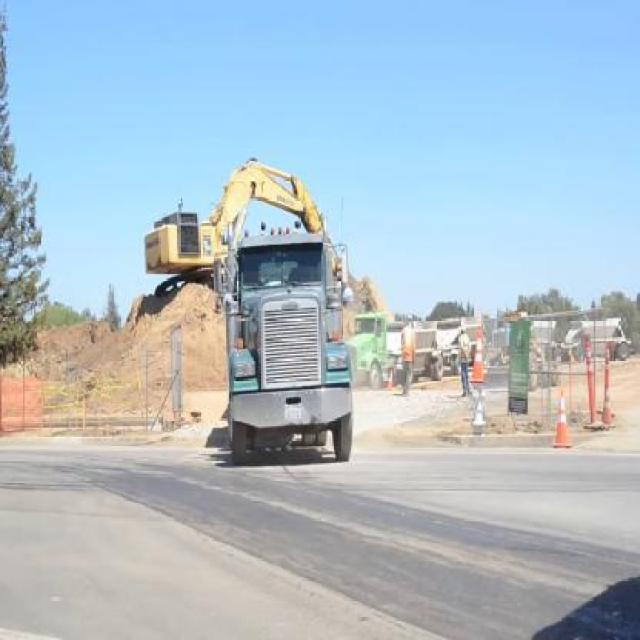dump_truck: (212, 218, 357, 458), (350, 303, 484, 389)
excavator: (141, 154, 354, 292)
